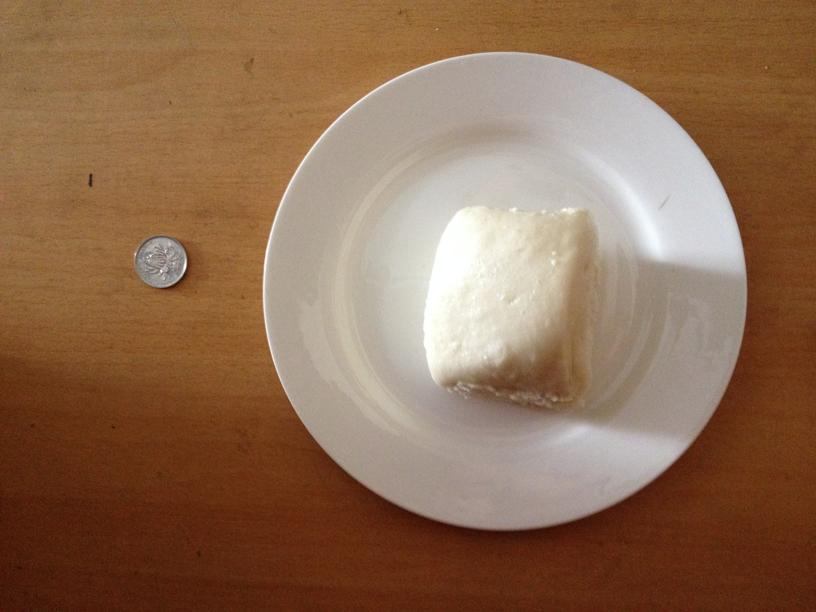bun: (419, 201, 598, 407)
coin: (130, 235, 188, 288)
